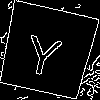Y: (22, 25, 66, 78)
